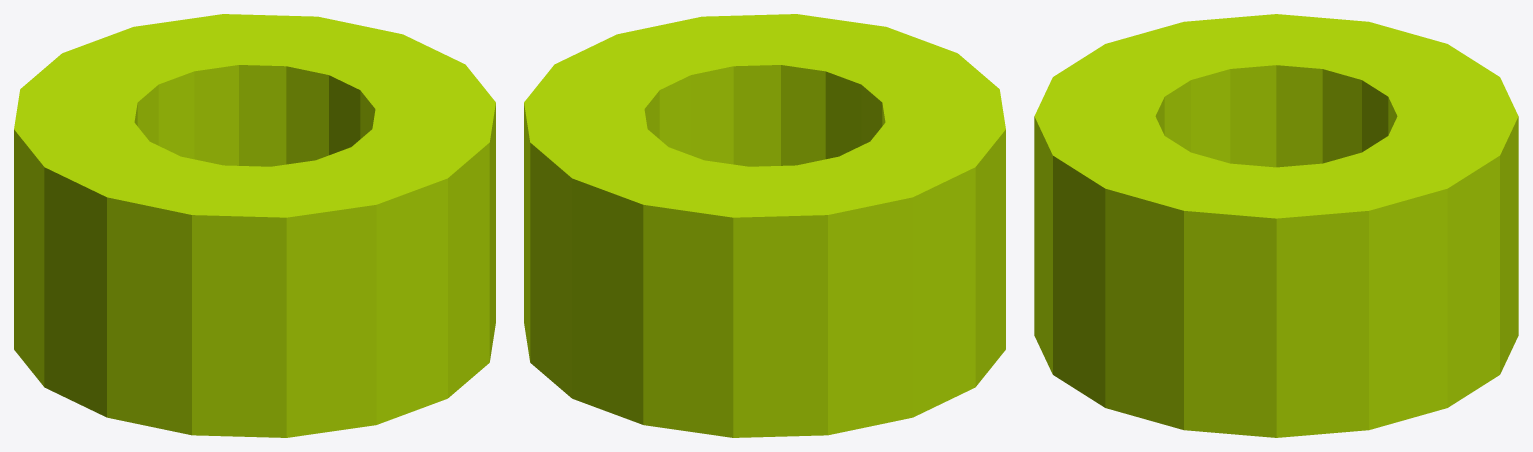
The picture shows the model from 3 angles, left to right: view 1: azimuth 30°, elevation 25°; view 2: azimuth 150°, elevation 25°; view 3: azimuth 270°, elevation 25°; orthographic projection.
Visible parts, largest first — view 1: Tube; view 2: Tube; view 3: Tube.
Boxes of the visible parts, box(x1,y1,x2,y2) form: Tube: box(14, 14, 495, 437); Tube: box(524, 14, 1005, 437); Tube: box(1034, 14, 1518, 437).
Size of the model in its own units: 2 by 1 by 2.
